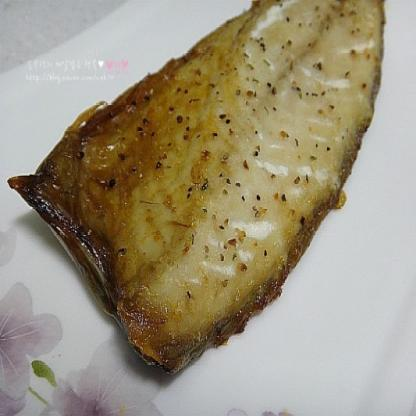Peixe: (4, 0, 416, 377)
